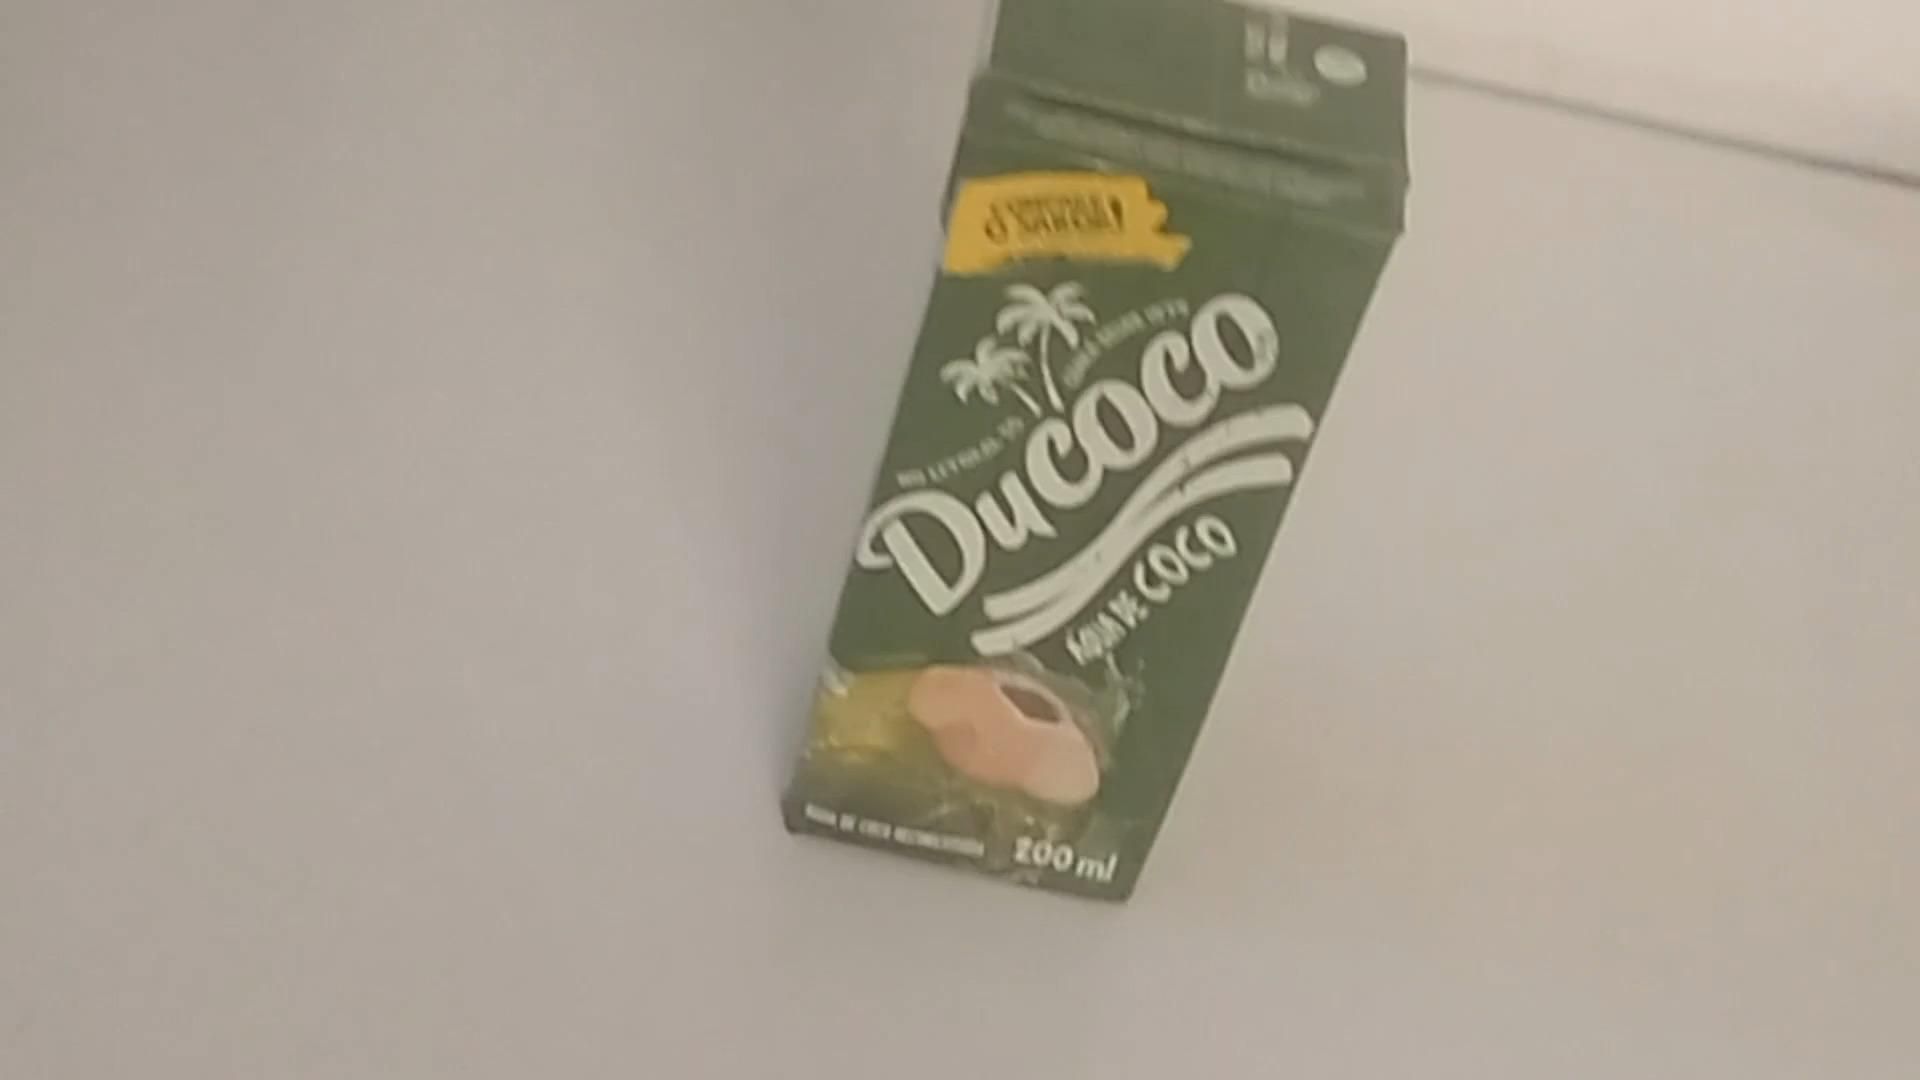coco: (775, 4, 1416, 911)
